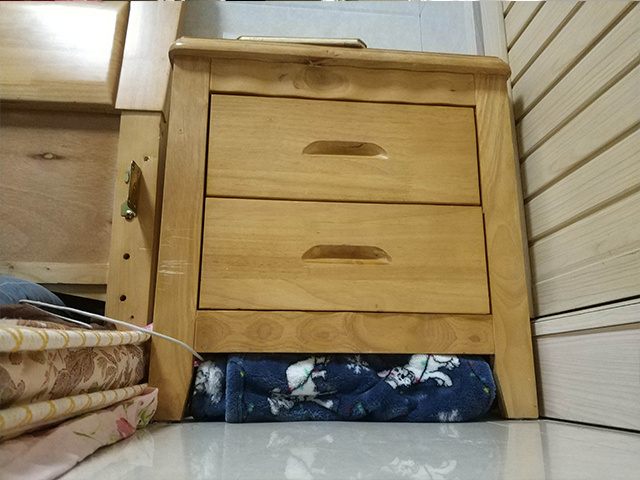cabinet: (143, 35, 543, 426)
wire: (16, 286, 206, 354)
